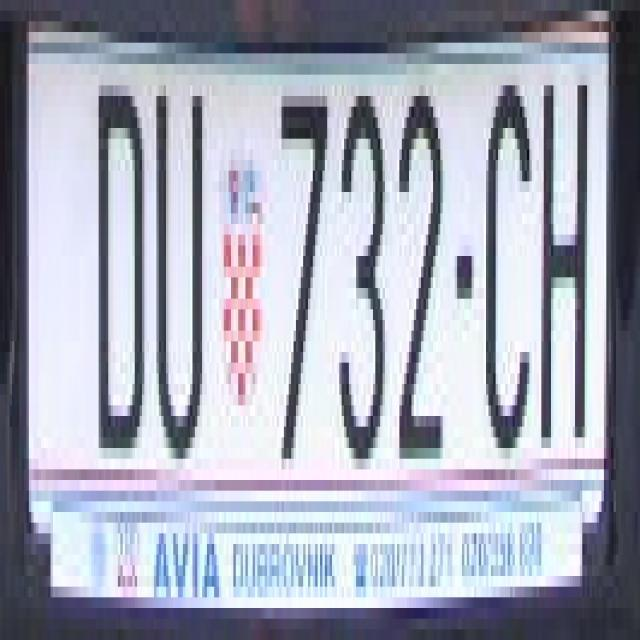2: (394, 85, 448, 480)
3: (337, 85, 385, 448)
7: (279, 74, 327, 458)
C: (484, 74, 532, 427)
D: (99, 85, 144, 448)
H: (541, 64, 587, 438)
U: (156, 74, 204, 458)
